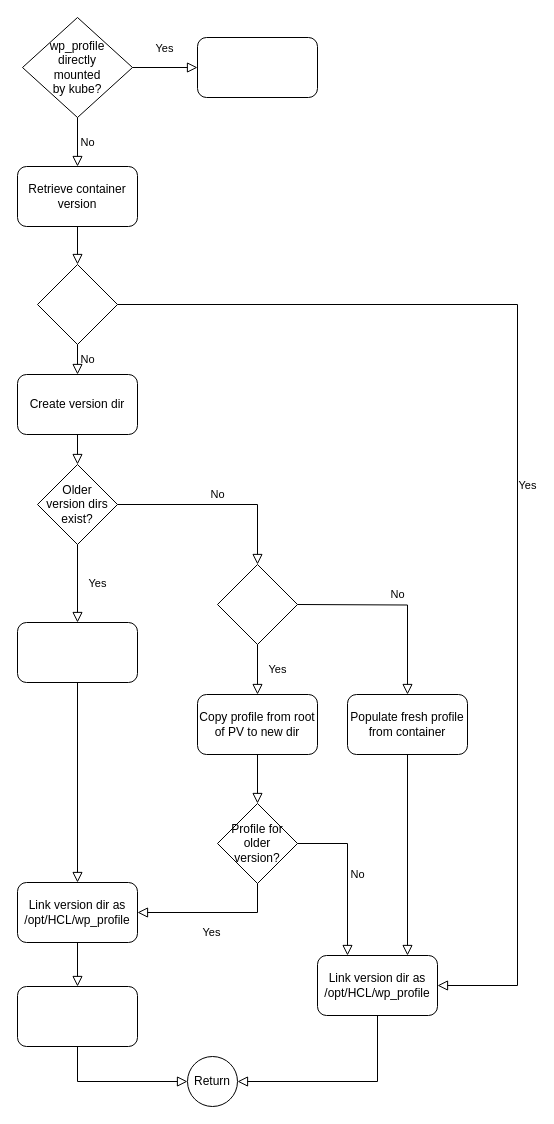
Some shapes in this 554 by 1124 pixel diagram are drawn without their labels. Each missing label, with the centre of its shape:
Copy highest numbered old dir contents to new dir: (77,652)
Do Not Start: (257,67)
Profile dir for version exists?: (77,304)
Profile files in root of PV?: (257,604)
Run applyCF: (77,1016)
